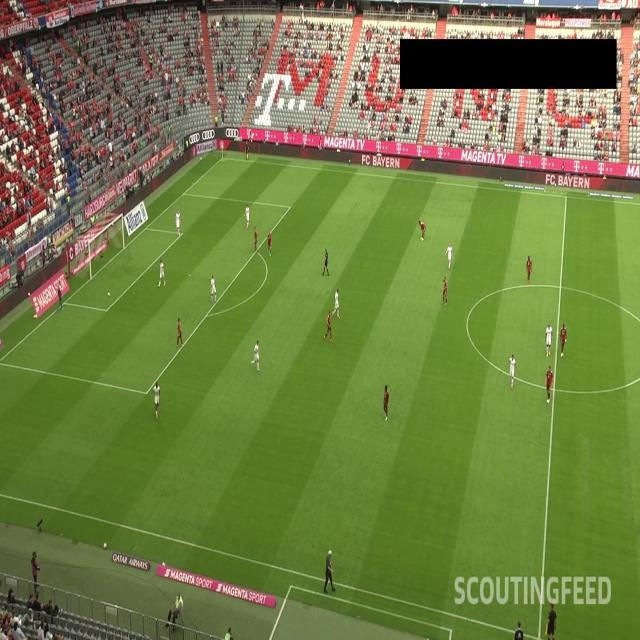ball: (106, 288, 111, 300)
player: (544, 362, 556, 404), (151, 378, 162, 421), (249, 338, 262, 372), (558, 322, 569, 360), (55, 278, 66, 314), (174, 315, 185, 350), (322, 308, 332, 345), (382, 383, 390, 425), (331, 285, 340, 319), (507, 352, 515, 389), (524, 253, 534, 282), (208, 274, 217, 306), (241, 202, 250, 234), (544, 323, 552, 358), (444, 240, 453, 271), (440, 274, 448, 308), (157, 256, 165, 288), (175, 208, 183, 239), (416, 217, 426, 241), (265, 228, 273, 257), (252, 226, 258, 257)
referee: (542, 599, 561, 640), (321, 243, 329, 277), (243, 137, 250, 163)
